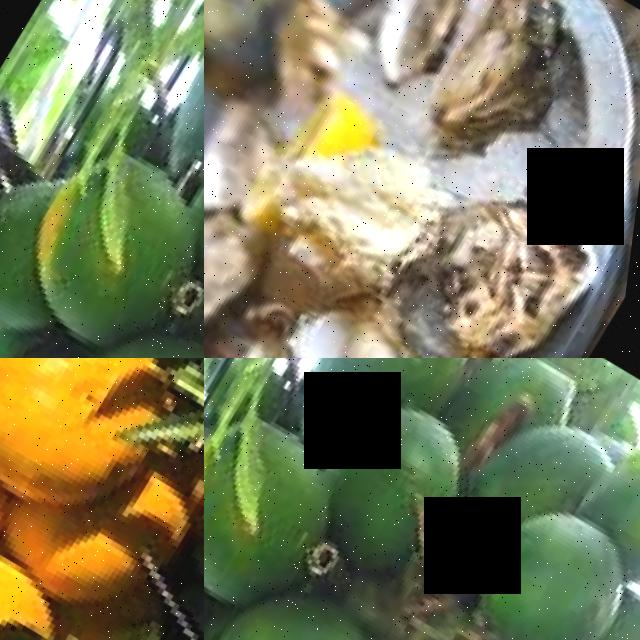orange: (0, 358, 180, 521)
oysters: (403, 0, 624, 180), (238, 275, 493, 358), (204, 163, 285, 354), (345, 0, 507, 93)
pawpaw: (299, 364, 495, 578), (204, 391, 359, 622), (204, 553, 422, 640), (316, 358, 508, 414), (587, 381, 640, 571)
